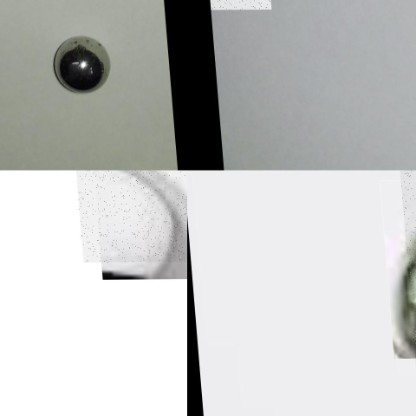ironball: (72, 170, 187, 262), (49, 34, 110, 94)
